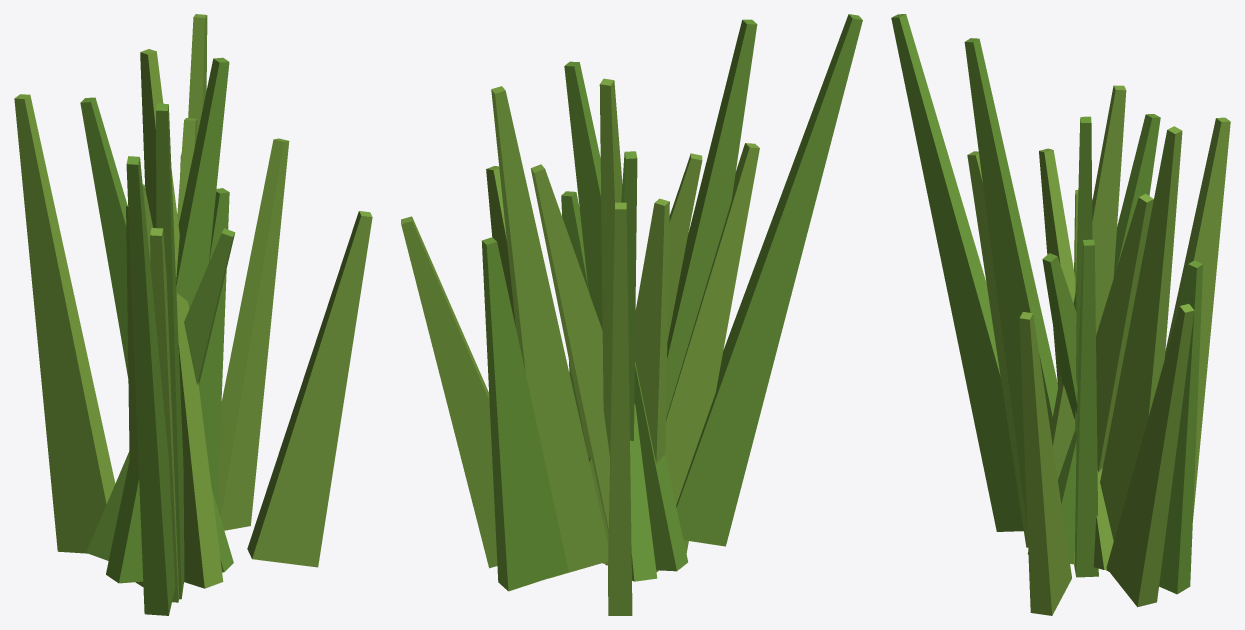
The model's file is Grass_Clump_A.fbx.
The picture shows the model from 3 angles, left to right: view 1: azimuth 30°, elevation 25°; view 2: azimuth 150°, elevation 25°; view 3: azimuth 270°, elevation 25°; orthographic projection. The views are drawn at different scales.
Visible parts, largest first — view 1: Grass_Clump_A; view 2: Grass_Clump_A; view 3: Grass_Clump_A.
Boxes of the visible parts, x1,y1,x2,y2 form: Grass_Clump_A: (14,14,372,615); Grass_Clump_A: (401,14,862,615); Grass_Clump_A: (891,14,1230,615).
Size of the model in its own units: 0.3725 by 0.5931 by 0.3731.
